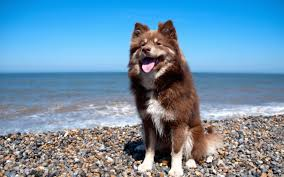dog_sitting: (127, 19, 221, 177)
